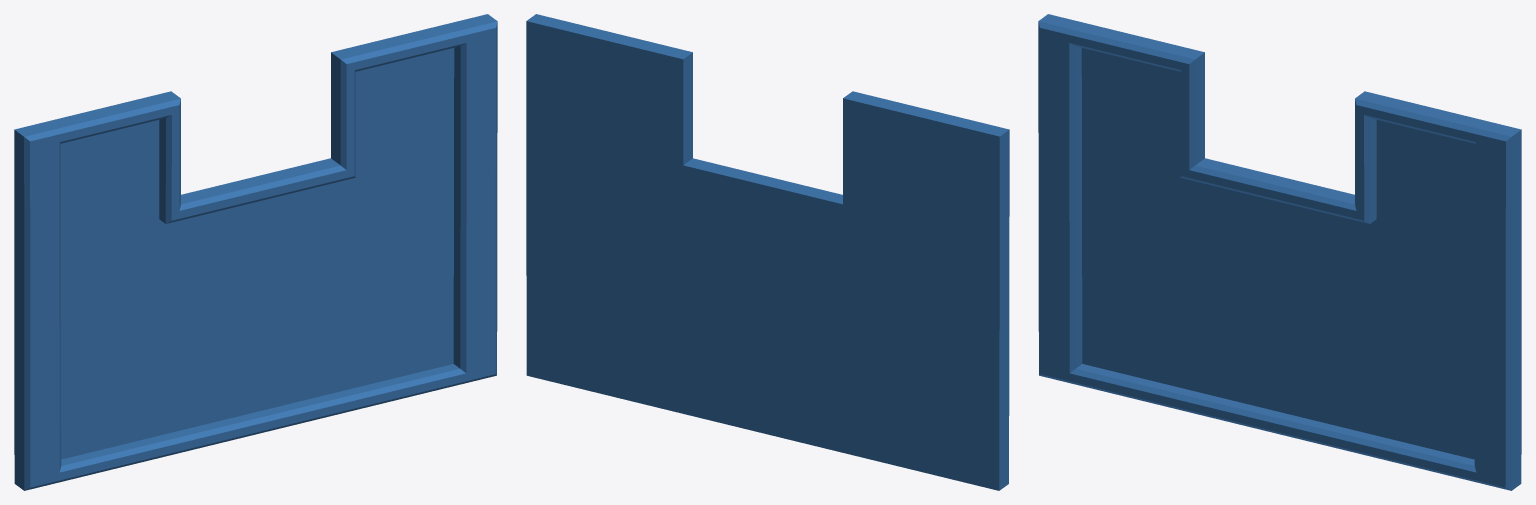
File: Bigsides_box.fbx
3 renders of one model, left to right at view 1: azimuth 30°, elevation 25°; view 2: azimuth 150°, elevation 25°; view 3: azimuth 330°, elevation 25°, orthographic.
Visible parts, largest first — view 1: Bigsides_box; view 2: Bigsides_box; view 3: Bigsides_box.
Part boxes in pixels (<box>): Bigsides_box: <box>14,14,497,490</box>; Bigsides_box: <box>526,14,1009,490</box>; Bigsides_box: <box>1038,14,1521,490</box>.
Bounding box in the file's own units: 677 × 484 × 30.22.
